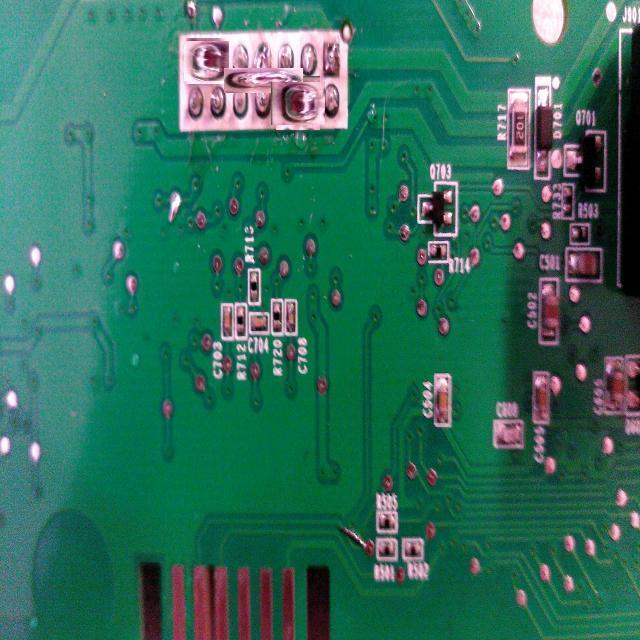Short_circuit: (237, 54, 290, 107), (274, 79, 322, 127), (185, 40, 228, 82)
